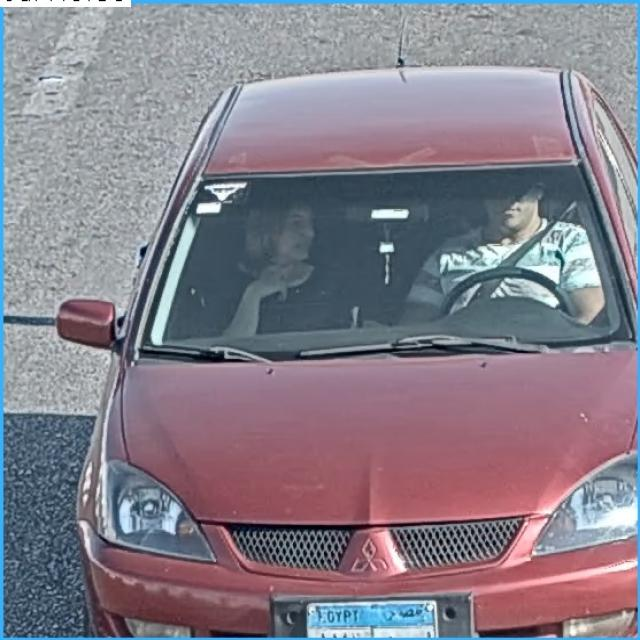windshield: (137, 175, 633, 359)
